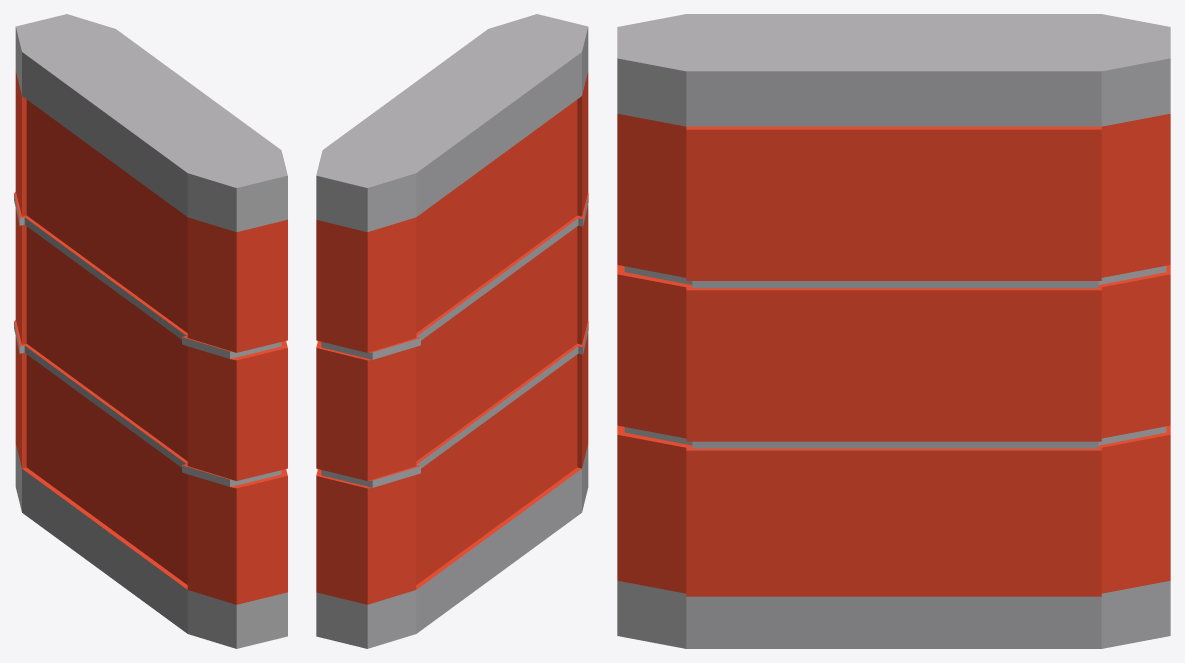
Rendered from door1_door.fbx.
The picture shows the model from 3 angles, left to right: view 1: azimuth 30°, elevation 25°; view 2: azimuth 150°, elevation 25°; view 3: azimuth 270°, elevation 25°; orthographic projection. The views are drawn at different scales.
Parts seen in each view (by area): view 1: Door; view 2: Door; view 3: Door.
Boxes of the visible parts, box(x1,y1,x2,y2) form: Door: box(14, 14, 287, 648); Door: box(316, 14, 588, 648); Door: box(617, 14, 1170, 648).
Bounding box in the file's own units: 71.17 × 307 × 267.
